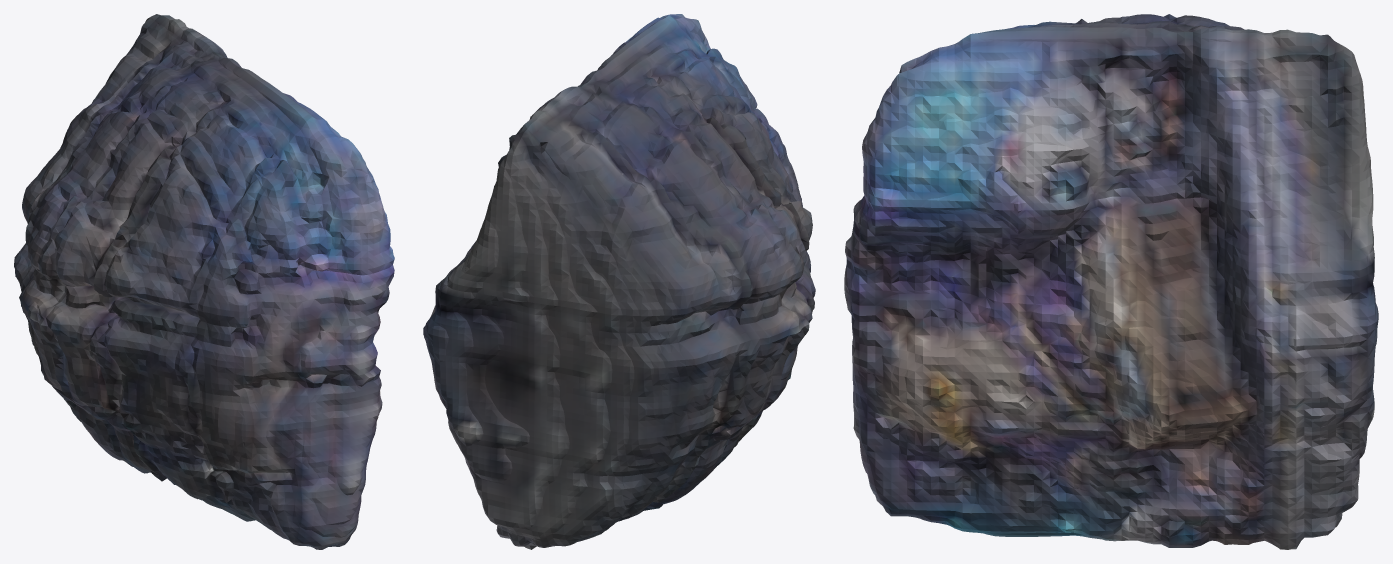
The model's file is leader-hawk-reviewer.glb.
3 renders of one model, left to right at view 1: azimuth 30°, elevation 25°; view 2: azimuth 150°, elevation 25°; view 3: azimuth 270°, elevation 25°, orthographic. The views are drawn at different scales.
Parts seen in each view (by area): view 1: world; view 2: world; view 3: world.
Part boxes in pixels (left/top/right/bottom): world: left=14, top=14, right=394, bottom=549; world: left=423, top=14, right=815, bottom=549; world: left=844, top=14, right=1378, bottom=549.
Bounding box in the file's own units: 0.7149 × 0.9828 × 0.922.
